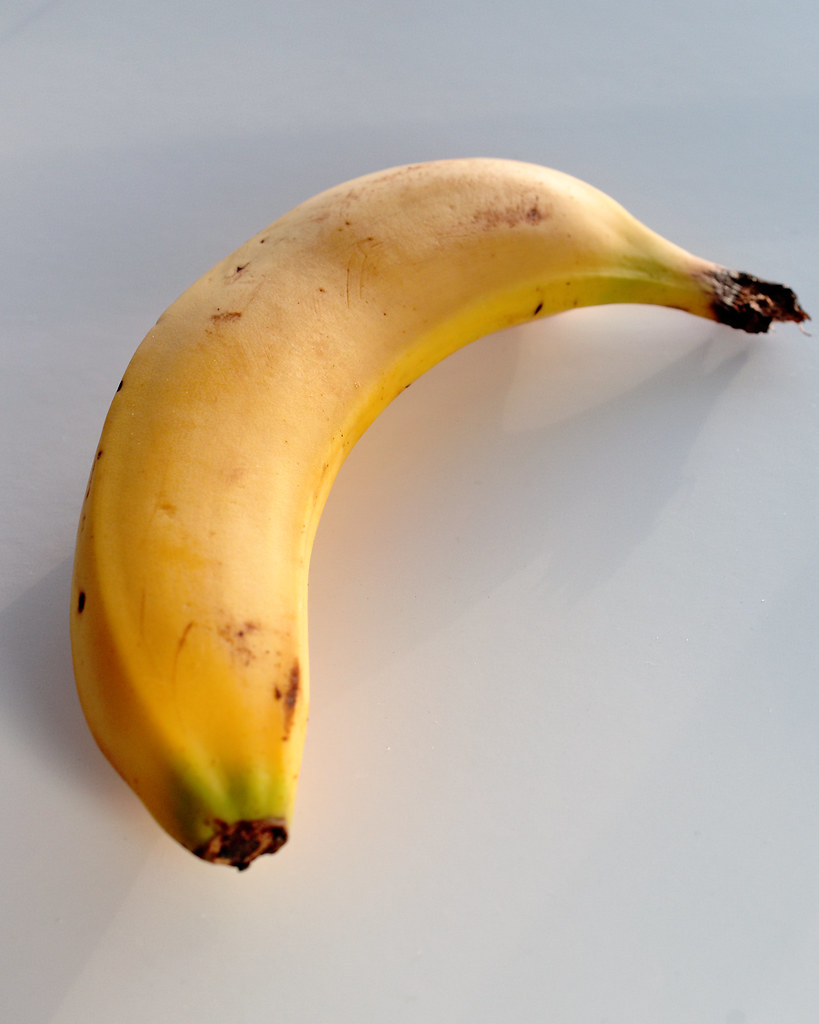banana: (65, 153, 811, 905)
